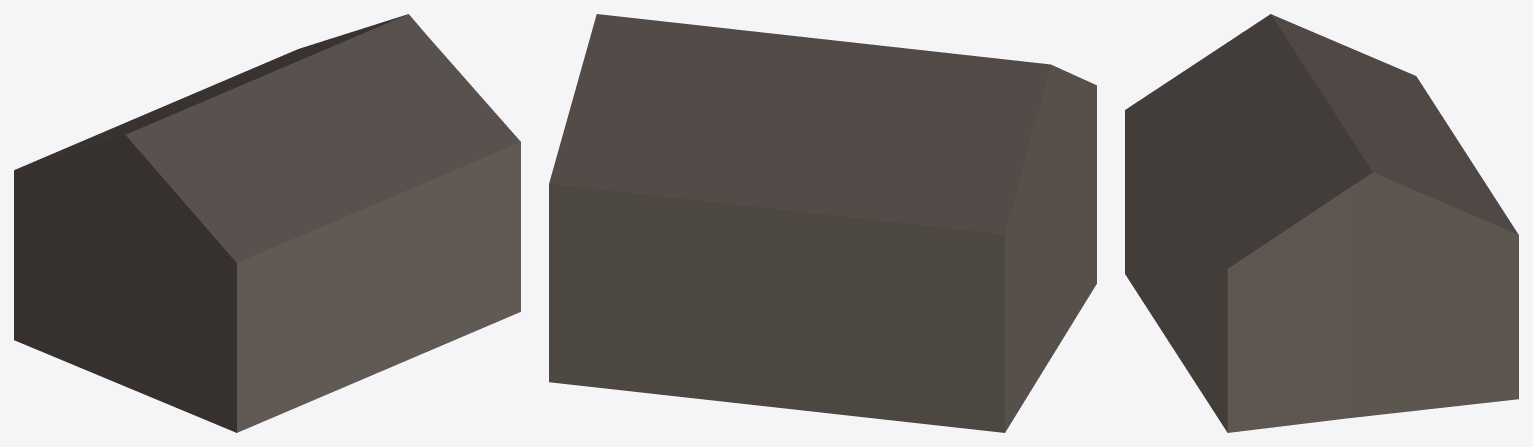
3 renders of one model, left to right at view 1: azimuth 30°, elevation 25°; view 2: azimuth 150°, elevation 25°; view 3: azimuth 270°, elevation 25°, orthographic. The views are drawn at different scales.
Visible parts, largest first — view 1: HP-w1200813404; view 2: HP-w1200813404; view 3: HP-w1200813404.
Boxes of the visible parts, left/top/right/bottom form: HP-w1200813404: left=14, top=14, right=520, bottom=432; HP-w1200813404: left=549, top=14, right=1096, bottom=432; HP-w1200813404: left=1125, top=14, right=1518, bottom=432.
Size of the model in its own units: 22.69 by 13.34 by 19.58.
